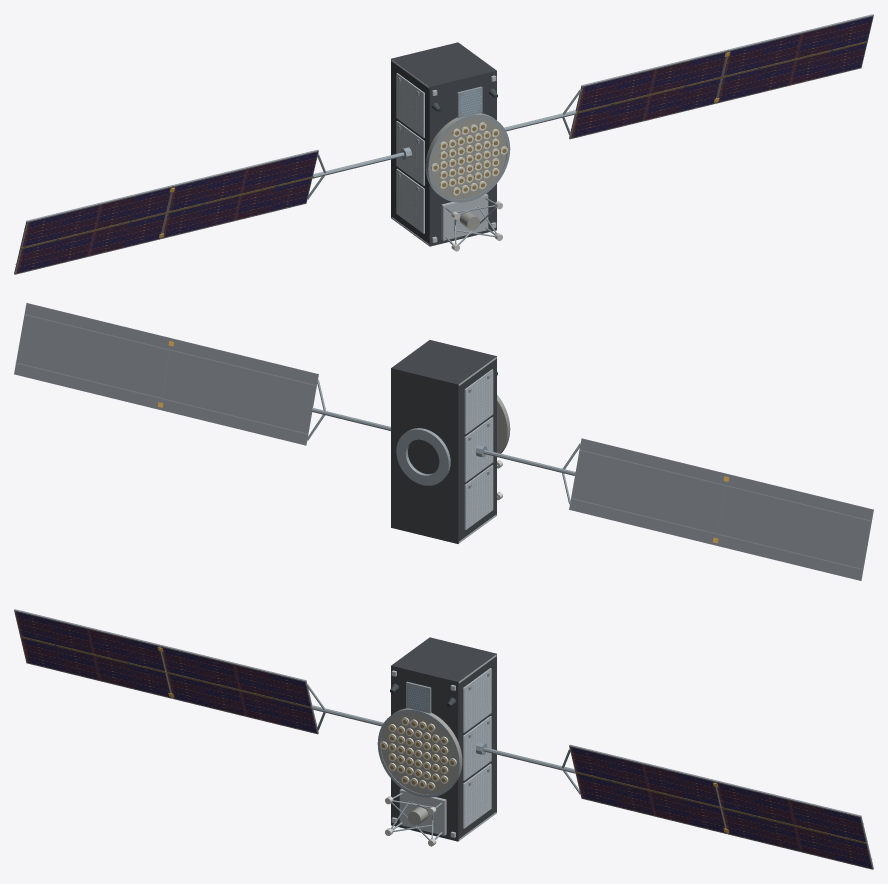
Rendered from galileo-iov-sar.glb.
3 views of the same model, one above another, from view 1: azimuth 30°, elevation 25°; view 2: azimuth 150°, elevation 25°; view 3: azimuth 330°, elevation 25° (orthographic).
Parts seen in each view (by area): view 1: Photovoltaic laminate (×8), Insulated spacecraft body, Optical radiator bay (×3), Solar array leaf (×4), L-band navigation antenna carrier, Search and rescue antenna base, Antenna retaining rim, Laser retroreflector tray; view 2: Solar array leaf (×4), Insulated spacecraft body, Optical radiator bay (×3), Launch interface ring, L-band navigation antenna carrier; view 3: Photovoltaic laminate (×8), Insulated spacecraft body, Optical radiator bay (×3), Solar array leaf (×4), L-band navigation antenna carrier, Search and rescue antenna base, Antenna retaining rim, Laser retroreflector tray.
Part boxes in pixels (bbox=[...]): Photovoltaic laminate (×8): bbox=[16, 16, 872, 273]; Insulated spacecraft body: bbox=[391, 42, 496, 246]; Optical radiator bay (×3): bbox=[396, 73, 424, 233]; Solar array leaf (×4): bbox=[14, 14, 873, 274]; L-band navigation antenna carrier: bbox=[425, 113, 506, 199]; Search and rescue antenna base: bbox=[441, 193, 488, 240]; Antenna retaining rim: bbox=[428, 114, 510, 202]; Laser retroreflector tray: bbox=[457, 86, 482, 118]; Solar array leaf (×4): bbox=[14, 303, 873, 580]; Insulated spacecraft body: bbox=[391, 340, 496, 543]; Optical radiator bay (×3): bbox=[464, 369, 493, 529]; Launch interface ring: bbox=[396, 428, 450, 485]; L-band navigation antenna carrier: bbox=[497, 396, 509, 453]; Photovoltaic laminate (×8): bbox=[15, 611, 871, 868]; Insulated spacecraft body: bbox=[391, 637, 496, 841]; Optical radiator bay (×3): bbox=[463, 668, 491, 828]; Solar array leaf (×4): bbox=[14, 609, 873, 869]; L-band navigation antenna carrier: bbox=[381, 708, 462, 794]; Search and rescue antenna base: bbox=[399, 788, 446, 835]; Antenna retaining rim: bbox=[377, 709, 459, 797]; Laser retroreflector tray: bbox=[406, 681, 431, 713].
Bounding box in the file's own units: 14.49 × 2.61 × 1.67.
Materials: 15 (2 with a texture image).
